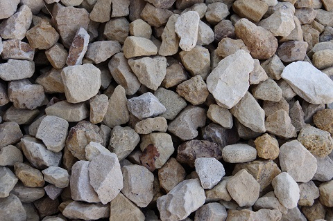stone: (200, 47, 259, 111), (275, 53, 333, 109), (149, 172, 213, 221), (83, 135, 128, 203), (230, 13, 286, 66), (57, 58, 107, 106), (276, 134, 321, 187), (130, 128, 186, 169), (117, 158, 158, 208), (123, 53, 171, 90), (225, 165, 265, 207), (33, 110, 73, 151), (174, 6, 206, 54), (59, 26, 94, 68), (125, 90, 171, 121), (189, 154, 228, 190), (118, 33, 164, 58), (1, 54, 41, 82), (1, 189, 32, 221)
